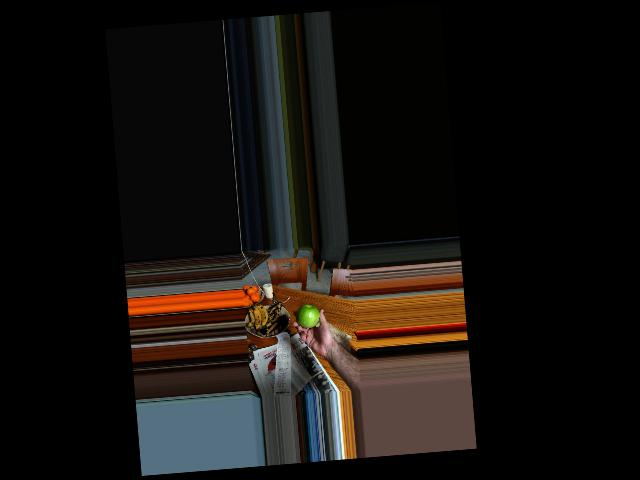apple: (294, 302, 320, 330)
